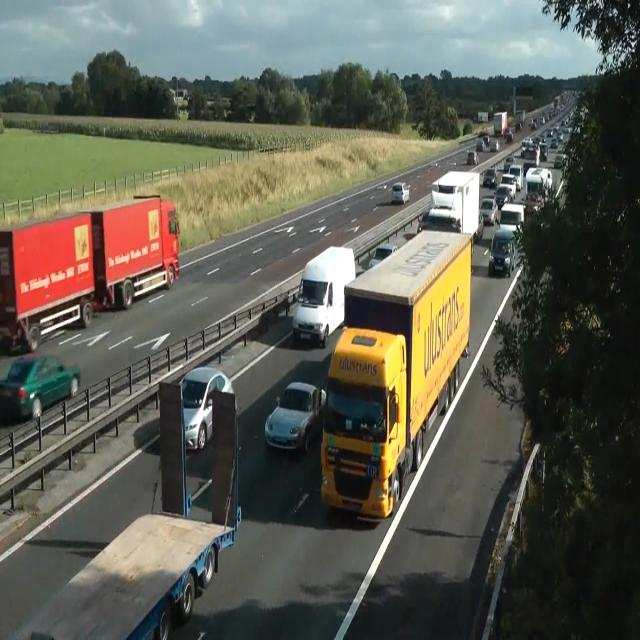bus: (0, 353, 80, 425), (178, 365, 234, 451), (264, 380, 326, 454), (417, 207, 461, 233), (368, 242, 398, 269), (522, 191, 544, 215), (492, 185, 512, 210), (392, 182, 410, 204), (554, 145, 568, 168), (474, 210, 484, 241), (482, 167, 496, 187), (466, 150, 478, 164), (504, 156, 514, 172), (504, 129, 513, 143), (490, 139, 499, 152)
jeep: (488, 226, 516, 276), (480, 195, 498, 225)
minibus: (0, 367, 242, 639), (320, 229, 473, 519), (0, 193, 180, 352), (292, 245, 356, 348), (417, 170, 483, 242), (523, 166, 553, 215), (493, 111, 508, 136), (477, 111, 488, 123)
